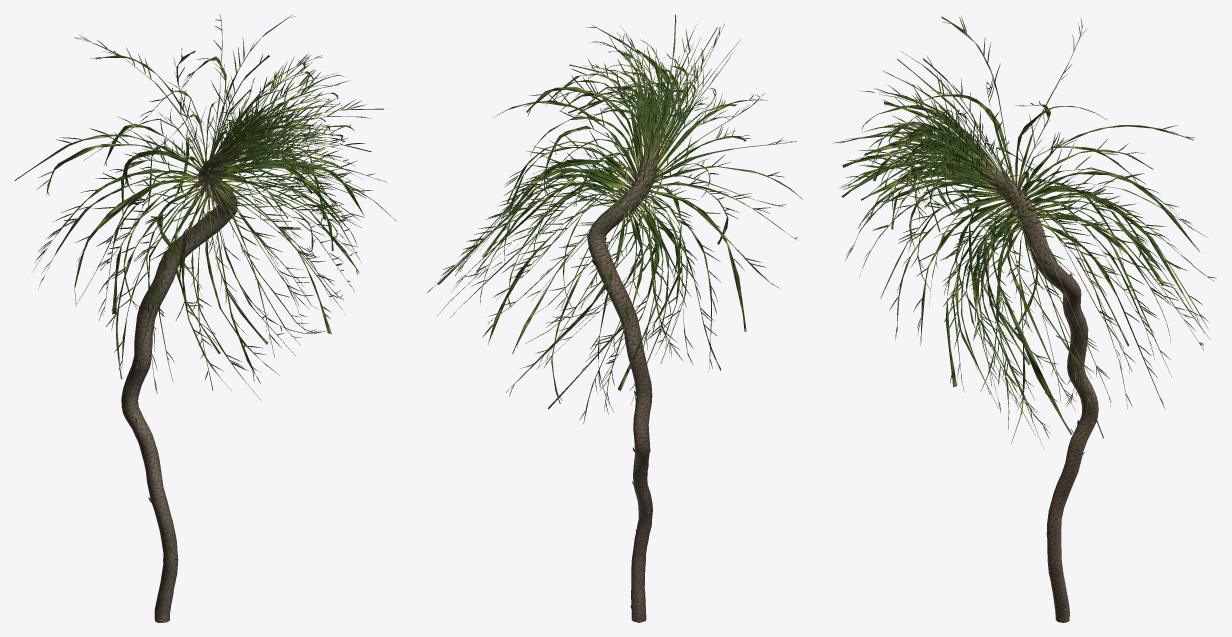
File: macrozamia_moorei_palm_tall02_lod1.gltf
3 views of the same model, side by side, from view 1: azimuth 30°, elevation 25°; view 2: azimuth 150°, elevation 25°; view 3: azimuth 270°, elevation 25° (orthographic). The views are drawn at different scales.
Visible parts, largest first — view 1: Macrozamia_Moorei_Palm_Tall02; view 2: Macrozamia_Moorei_Palm_Tall02; view 3: Macrozamia_Moorei_Palm_Tall02.
Boxes of the visible parts, bbox=[...] form: Macrozamia_Moorei_Palm_Tall02: bbox=[14, 14, 395, 622]; Macrozamia_Moorei_Palm_Tall02: bbox=[426, 14, 802, 622]; Macrozamia_Moorei_Palm_Tall02: bbox=[833, 16, 1216, 622].
Bounding box in the file's own units: 2.52 × 4.21 × 2.51.
5 materials, 5 textured.
